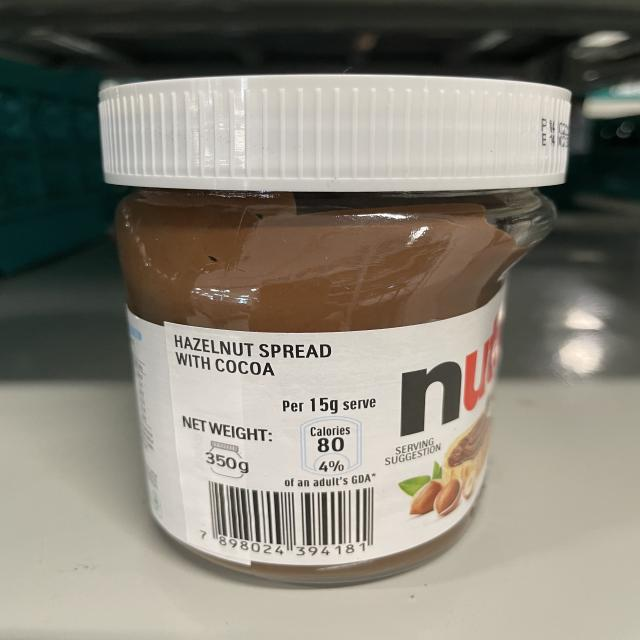object_name: (108, 82, 534, 585)
